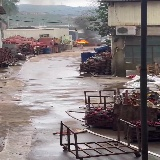fire: (76, 39, 88, 44)
